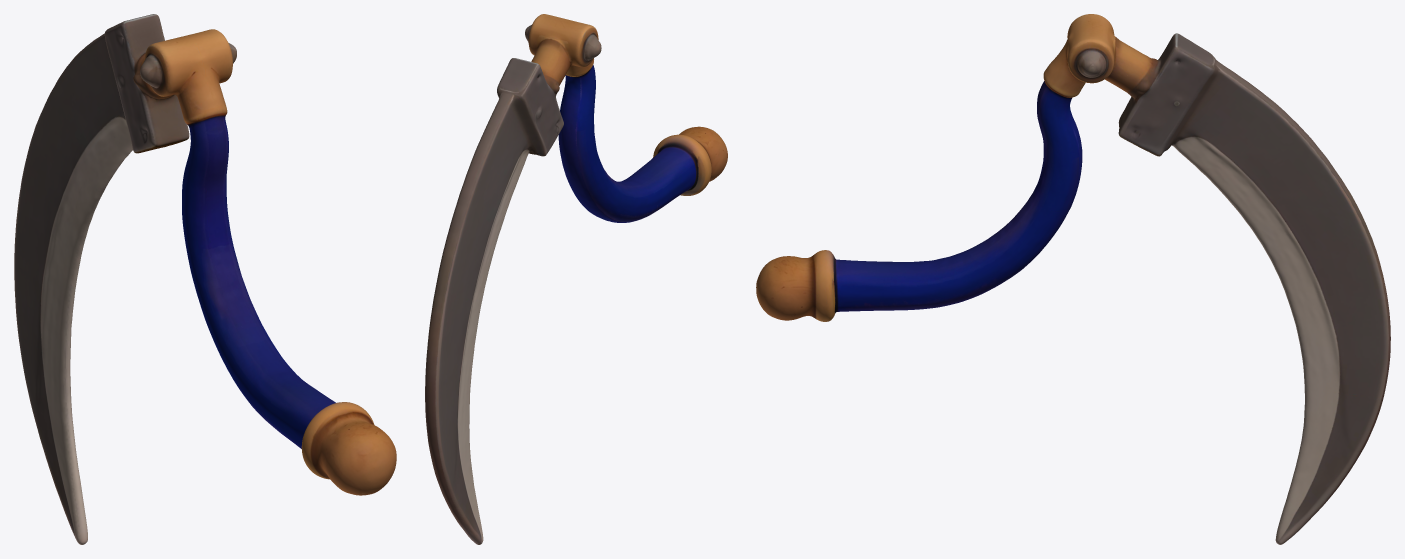
The model's file is scythe.glb.
The picture shows the model from 3 angles, left to right: view 1: azimuth 30°, elevation 25°; view 2: azimuth 150°, elevation 25°; view 3: azimuth 270°, elevation 25°; orthographic projection. The views are drawn at different scales.
Visible parts, largest first — view 1: tripo_node_2c61117a-8ee6-4274-b9da-dfe29beac6a4; view 2: tripo_node_2c61117a-8ee6-4274-b9da-dfe29beac6a4; view 3: tripo_node_2c61117a-8ee6-4274-b9da-dfe29beac6a4.
Boxes of the visible parts, left/top/right/bottom form: tripo_node_2c61117a-8ee6-4274-b9da-dfe29beac6a4: left=14, top=14, right=396, bottom=544; tripo_node_2c61117a-8ee6-4274-b9da-dfe29beac6a4: left=425, top=14, right=727, bottom=544; tripo_node_2c61117a-8ee6-4274-b9da-dfe29beac6a4: left=756, top=14, right=1390, bottom=544.
Bounding box in the file's own units: 0.1441 × 0.854 × 0.9485.
Materials: 1 (1 with a texture image).
